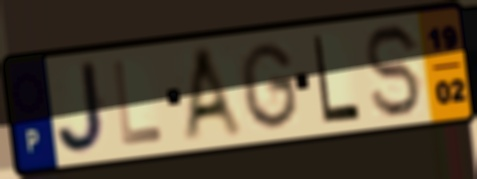A: (180, 42, 249, 142)
G: (237, 40, 301, 133)
J: (53, 57, 111, 158)
L: (110, 57, 167, 150), (311, 31, 364, 126)
S: (363, 20, 426, 122)
